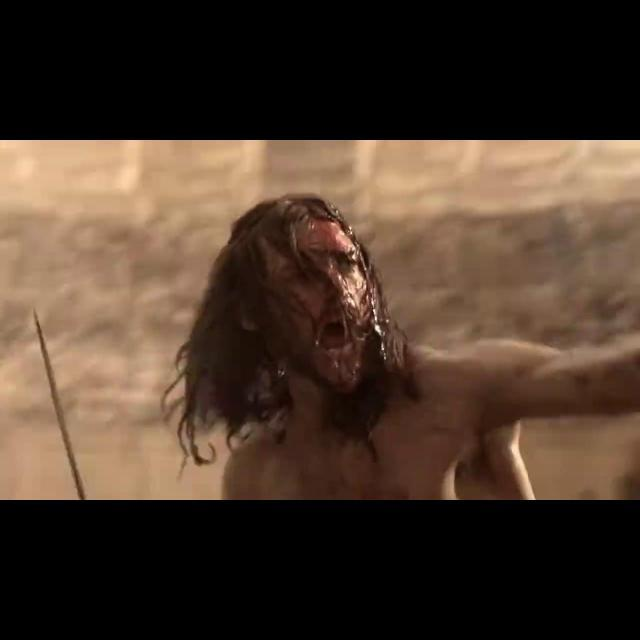blood: (260, 214, 405, 396)
